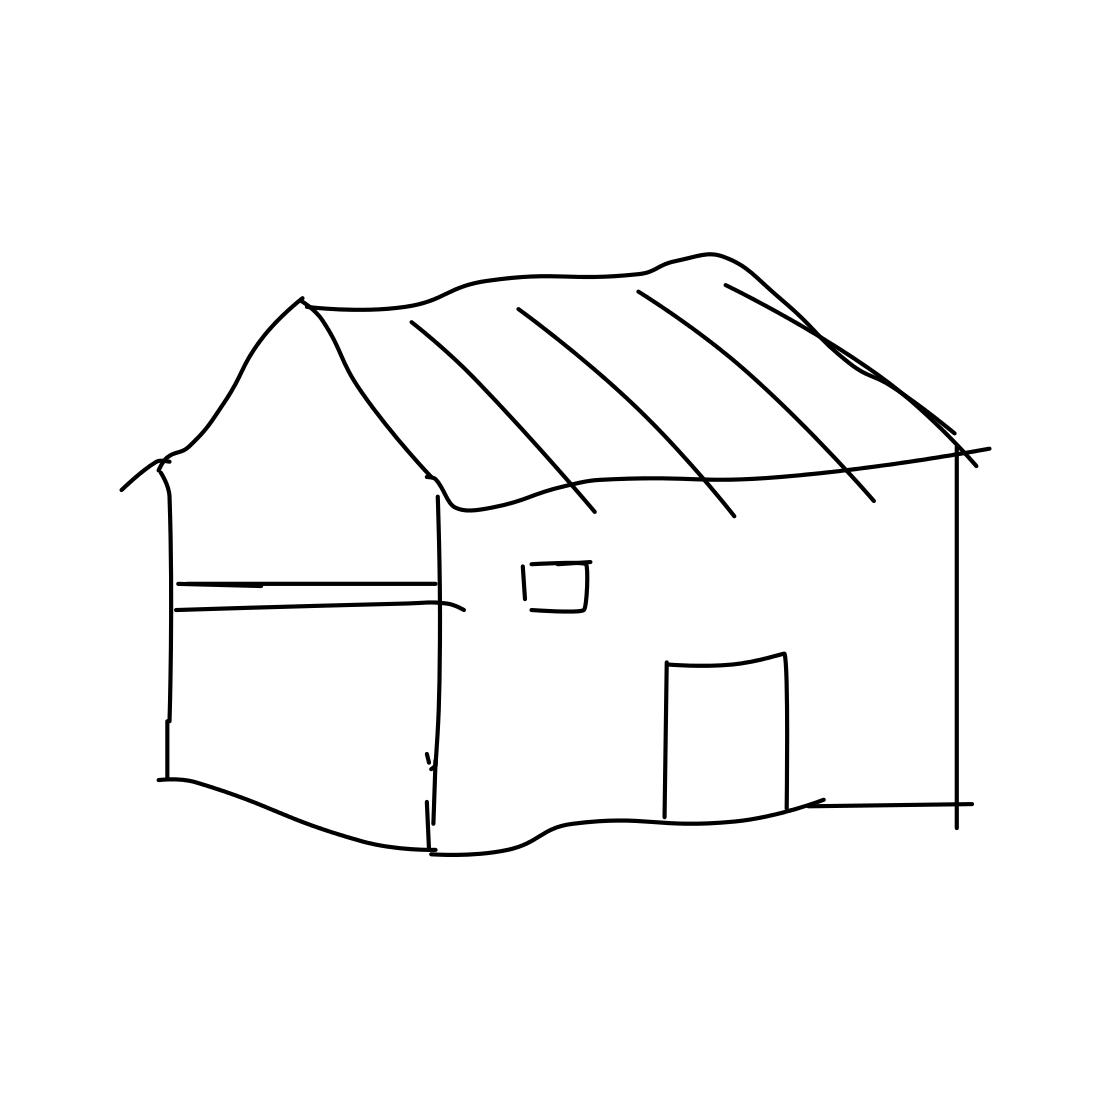House: (99, 234, 1017, 864)
